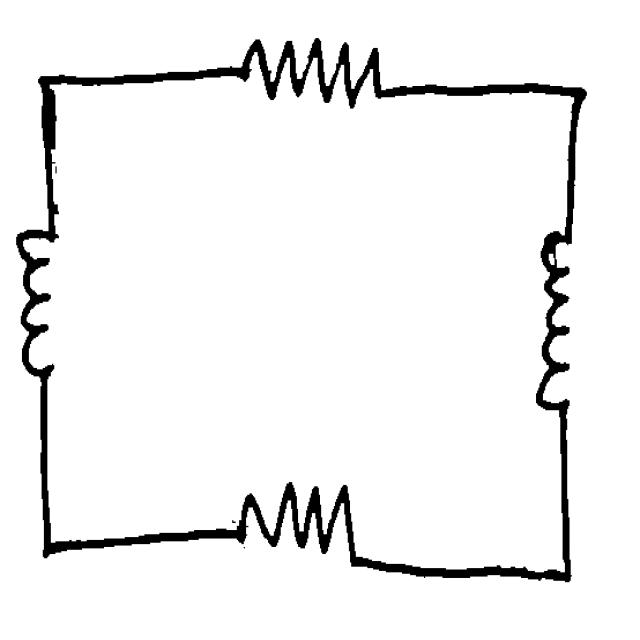inductor: (519, 208, 589, 433), (12, 211, 71, 391)
resistor: (213, 471, 373, 581), (225, 21, 401, 118)
